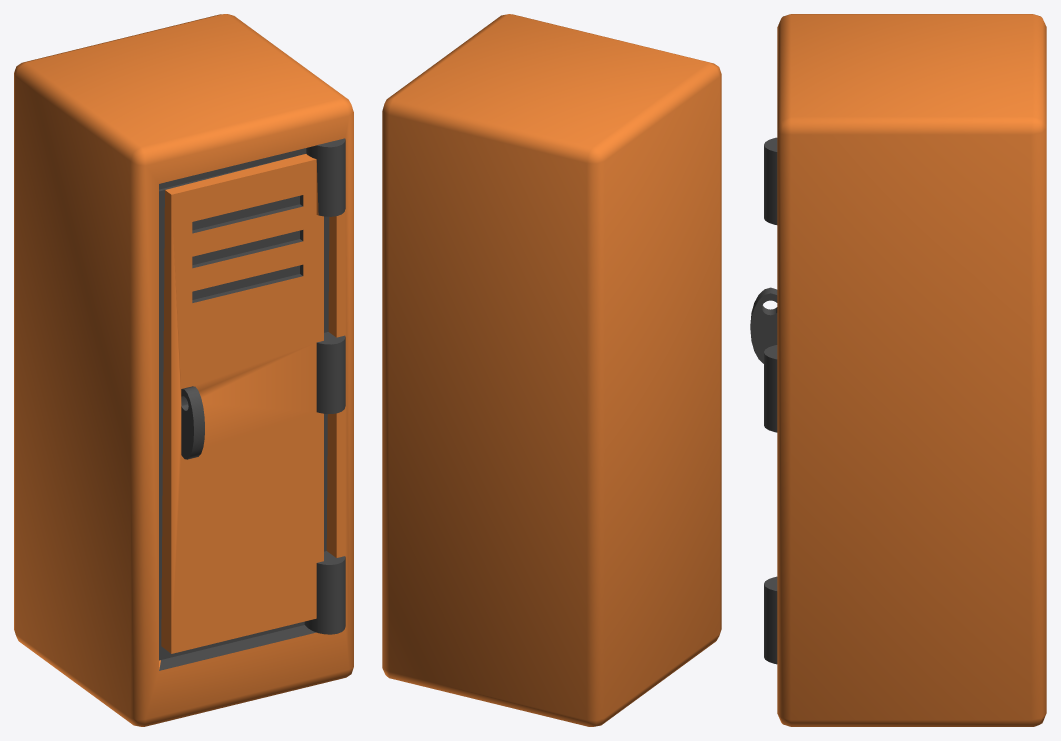
The model's file is Locker.fbx.
3 views of the same model, side by side, from view 1: azimuth 30°, elevation 25°; view 2: azimuth 150°, elevation 25°; view 3: azimuth 270°, elevation 25° (orthographic). The views are drawn at different scales.
Parts seen in each view (by area): view 1: Locker; view 2: Locker; view 3: Locker.
Boxes of the visible parts, x1,y1,x2,y2 form: Locker: (14,14,353,726); Locker: (382,14,721,726); Locker: (750,14,1046,726).
Size of the model in its own units: 2000 by 5000 by 2200.
